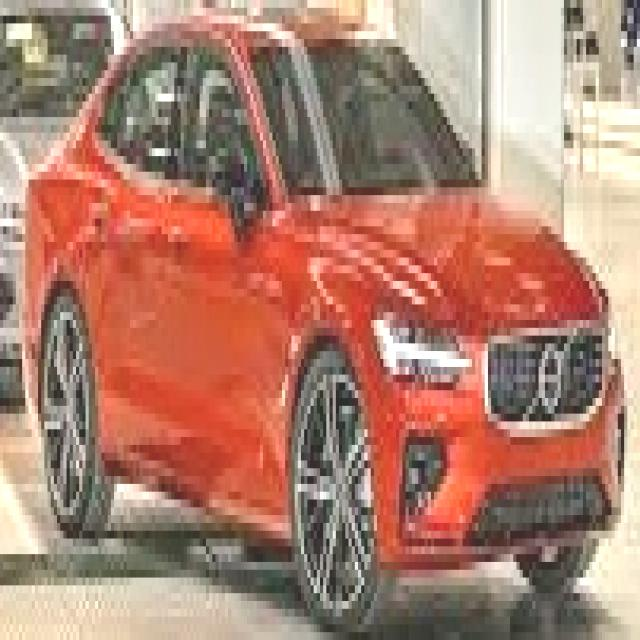red: (29, 20, 640, 606)
